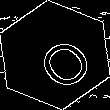O_NW: (20, 22, 90, 88)
